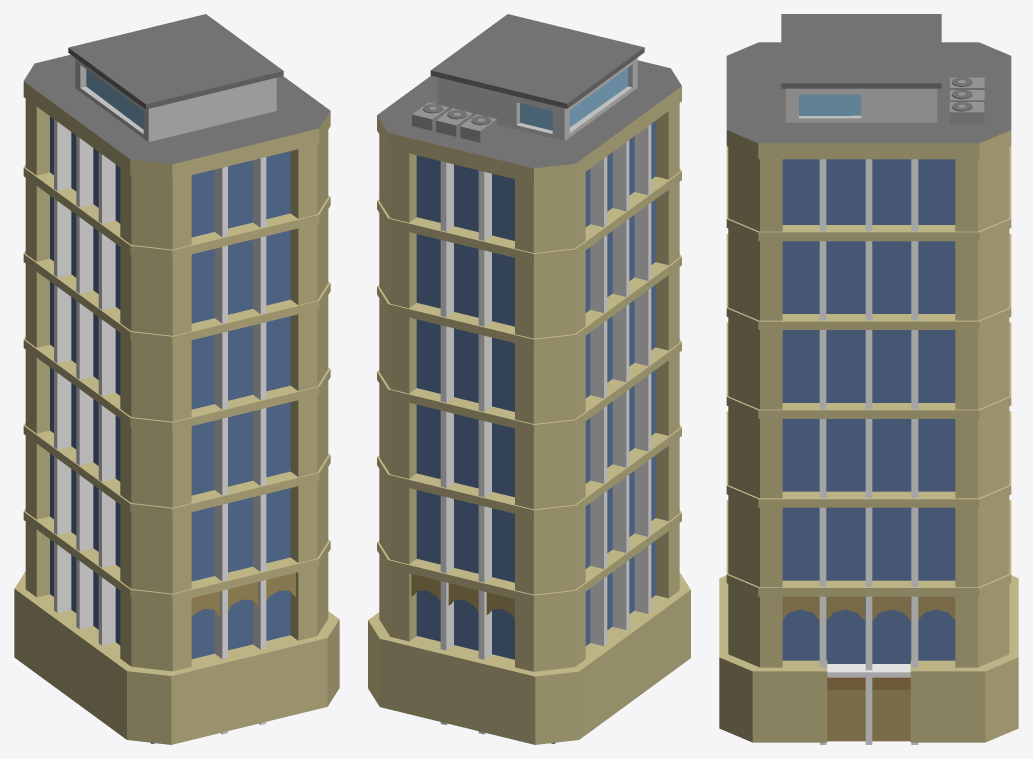
File: building_2_1_1_9.glb
3 renders of one model, left to right at view 1: azimuth 30°, elevation 25°; view 2: azimuth 150°, elevation 25°; view 3: azimuth 270°, elevation 25°, orthographic. The views are drawn at different scales.
Visible parts, largest first — view 1: building_2_1_1_9; view 2: building_2_1_1_9; view 3: building_2_1_1_9.
Boxes of the visible parts, x1=… form: building_2_1_1_9: x1=14, y1=14, x2=339, y2=744; building_2_1_1_9: x1=368, y1=14, x2=690, y2=744; building_2_1_1_9: x1=719, y1=14, x2=1018, y2=744.
Size of the model in its own units: 11.7 by 32.8 by 13.82.
1 material, 1 textured.
